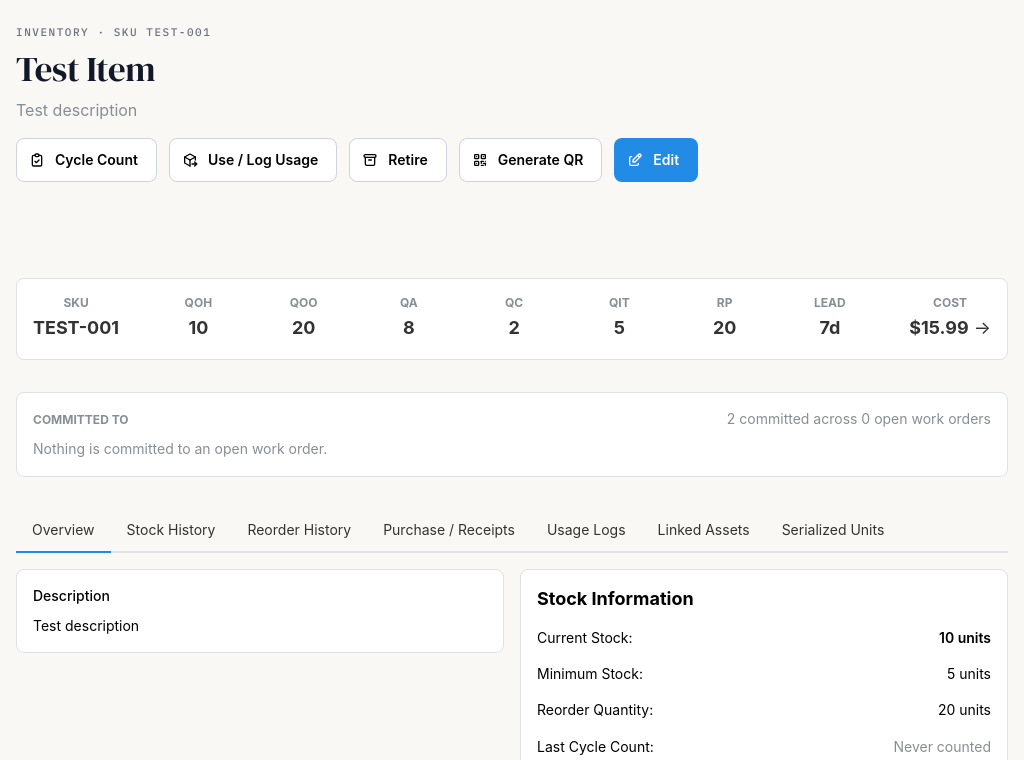
it: InventoryItemDetailPage › shows the purchase/receipts empty states when the item has no orders
Expected: the heading "Test Item" is shown, [16, 45, 155, 93]
Click the tab "Purchase / Receipts" at (449, 531), box [367, 509, 531, 553]
(page scrolled)
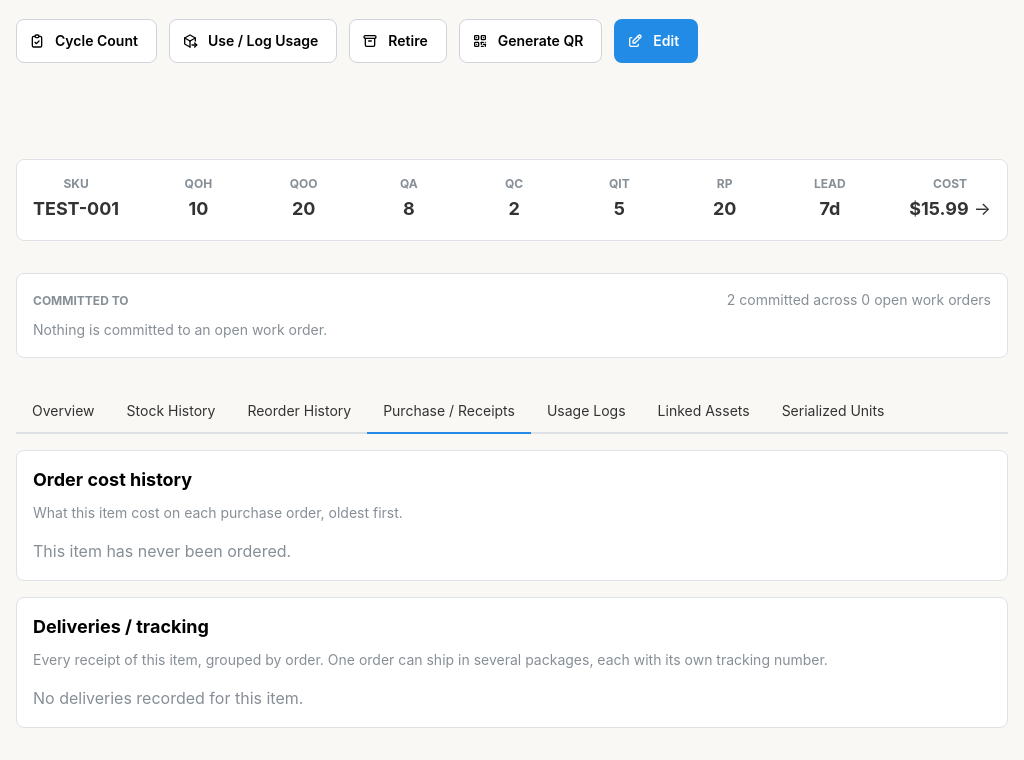
Expected: the text "This item has never been ordered." is shown, [33, 541, 291, 561]
Expected: the text "No deliveries recorded for this item." is shown, [33, 688, 303, 708]
